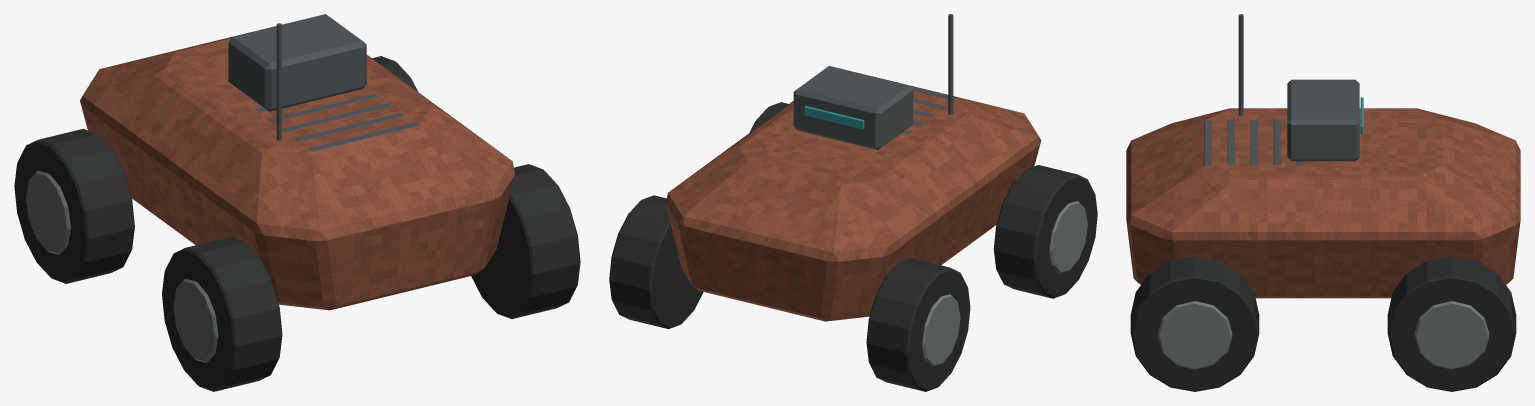
3 renders of one model, left to right at view 1: azimuth 30°, elevation 25°; view 2: azimuth 150°, elevation 25°; view 3: azimuth 270°, elevation 25°, orthographic. The views are drawn at different scales.
Parts seen in each view (by area): view 1: ST2-E01_Mesh, Wheel_L_Rear_Mesh, Wheel_L_Front_Mesh, Wheel_R_Rear_Mesh, SensorYaw_Mesh; view 2: ST2-E01_Mesh, Wheel_L_Rear_Mesh, Wheel_L_Front_Mesh, Wheel_R_Front_Mesh, SensorYaw_Mesh; view 3: ST2-E01_Mesh, Wheel_R_Front_Mesh, Wheel_R_Rear_Mesh, SensorYaw_Mesh.
Boxes of the visible parts, <box> form: ST2-E01_Mesh: <box>80,23,514,310</box>; Wheel_L_Rear_Mesh: <box>162,236,282,391</box>; Wheel_L_Front_Mesh: <box>14,129,134,283</box>; Wheel_R_Rear_Mesh: <box>471,164,580,318</box>; SensorYaw_Mesh: <box>228,14,366,111</box>; ST2-E01_Mesh: <box>665,14,1041,321</box>; Wheel_L_Rear_Mesh: <box>993,165,1097,298</box>; Wheel_L_Front_Mesh: <box>866,258,970,391</box>; Wheel_R_Front_Mesh: <box>609,195,703,328</box>; SensorYaw_Mesh: <box>793,66,913,149</box>; ST2-E01_Mesh: <box>1126,14,1520,298</box>; Wheel_R_Front_Mesh: <box>1387,256,1516,391</box>; Wheel_R_Rear_Mesh: <box>1130,256,1259,391</box>; SensorYaw_Mesh: <box>1287,79,1363,161</box>.
Bounding box in the file's own units: 2.17 × 1.85 × 2.39.
